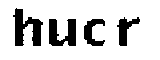c: (83, 17, 107, 48)
h: (11, 4, 42, 49)
r: (117, 13, 143, 48)
u: (46, 14, 78, 51)
